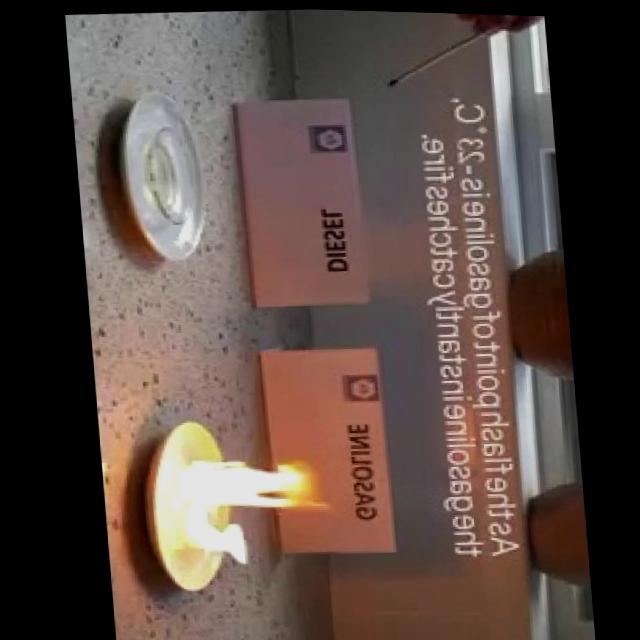no_helmet: (161, 446, 338, 577)
